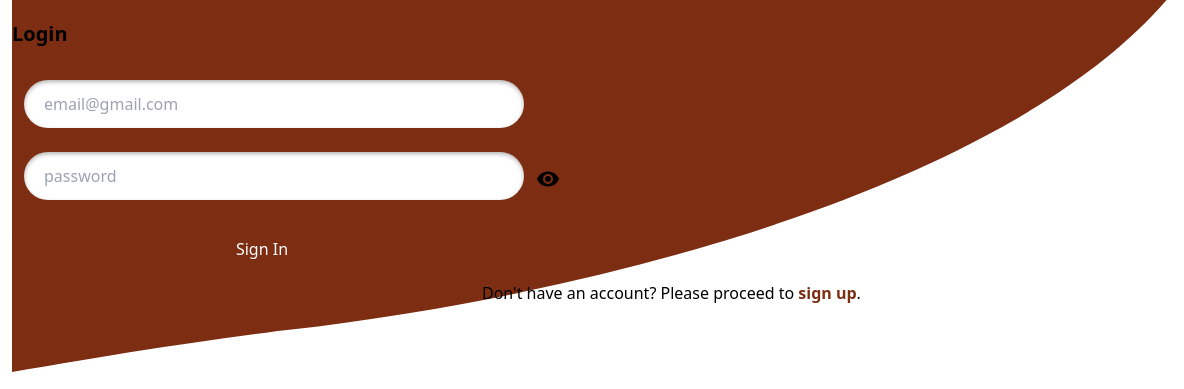
Test case: Signin page... › can render success message if getting success response
The width and height of the screenshot is (1184, 389).
In the field with placeholder "email@gmail.com": (274, 104) [24, 80, 524, 128], type "ji@gmail.com"
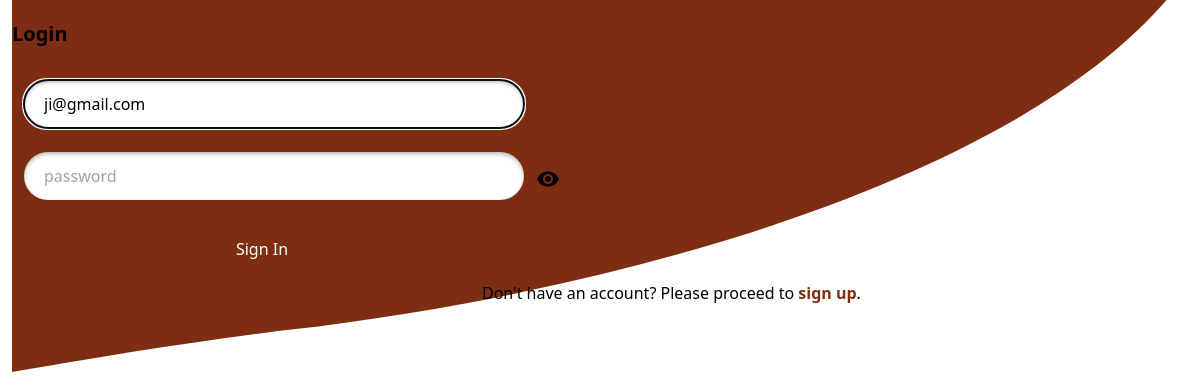
In the password field with placeholder "password": (274, 176) [24, 152, 524, 200], type "123456"
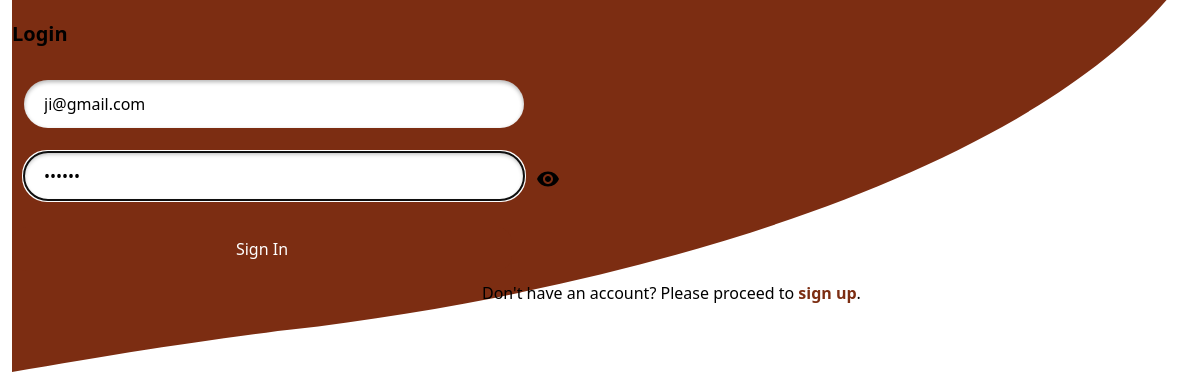
Click the button "Sign In": (262, 249) [12, 227, 512, 271]
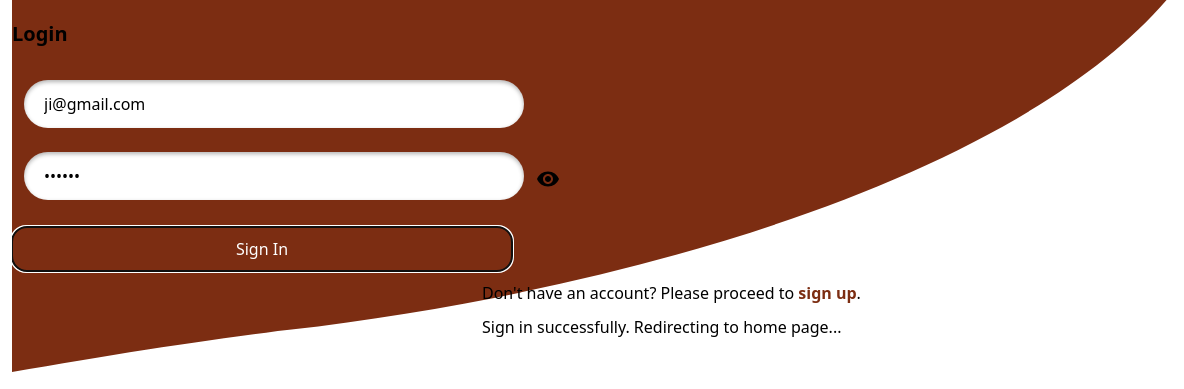
Expected: the text "Sign in successfully. Redirecting to home page..." is shown, [482, 316, 842, 338]
